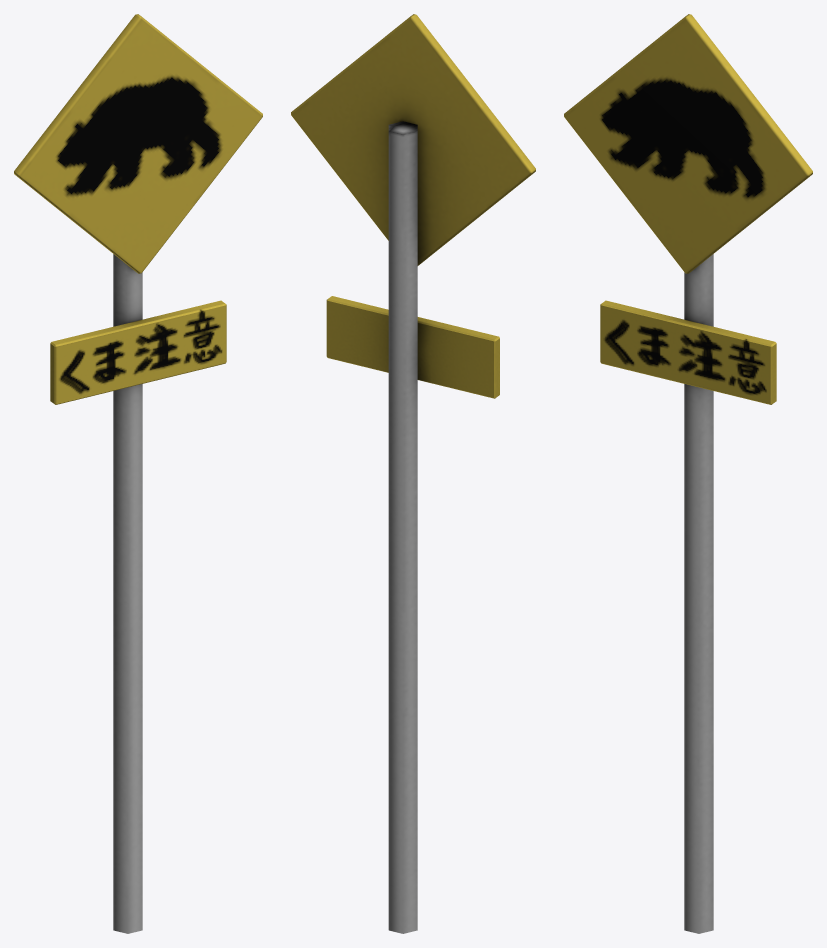
The model's file is AnimalSign.fbx.
The picture shows the model from 3 angles, left to right: view 1: azimuth 30°, elevation 25°; view 2: azimuth 150°, elevation 25°; view 3: azimuth 330°, elevation 25°; orthographic projection.
Visible parts, largest first — view 1: animal_sign; view 2: animal_sign; view 3: animal_sign.
Boxes of the visible parts, box(x1,y1,x2,y2) form: animal_sign: box(14, 14, 262, 933); animal_sign: box(291, 14, 535, 933); animal_sign: box(564, 14, 812, 933).
Bounding box in the file's own units: 0.0276 × 0.0988 × 0.00407.
Materials: 1 (1 with a texture image).
